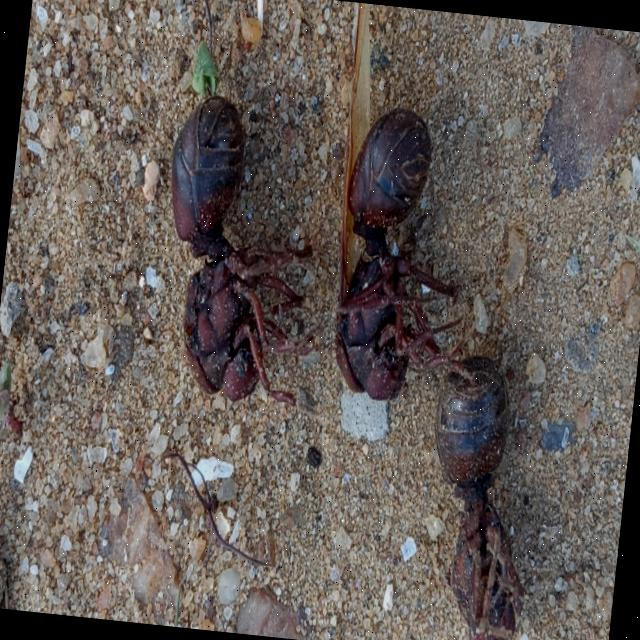Dead-Female-Alate: (318, 2, 518, 411)
Dead-Female-Dealate: (147, 92, 340, 408), (410, 353, 550, 640)
